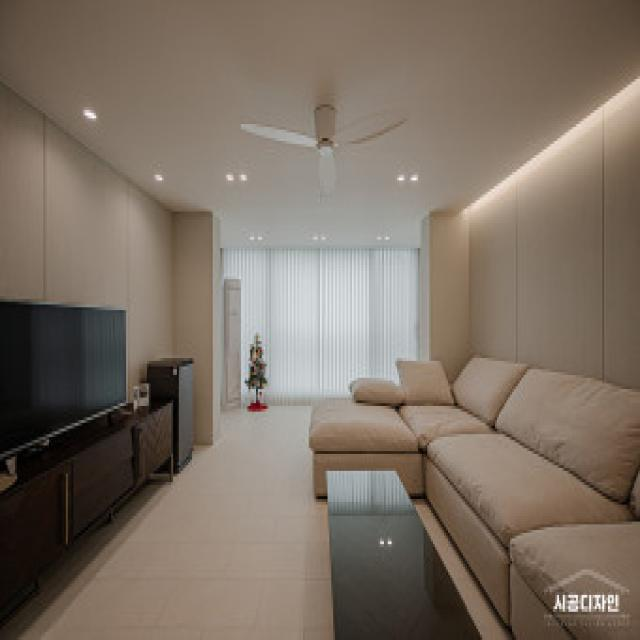Sofa: (311, 354, 640, 629)
Table: (322, 465, 478, 635)
tv: (1, 292, 127, 454)
window: (252, 244, 419, 360)
